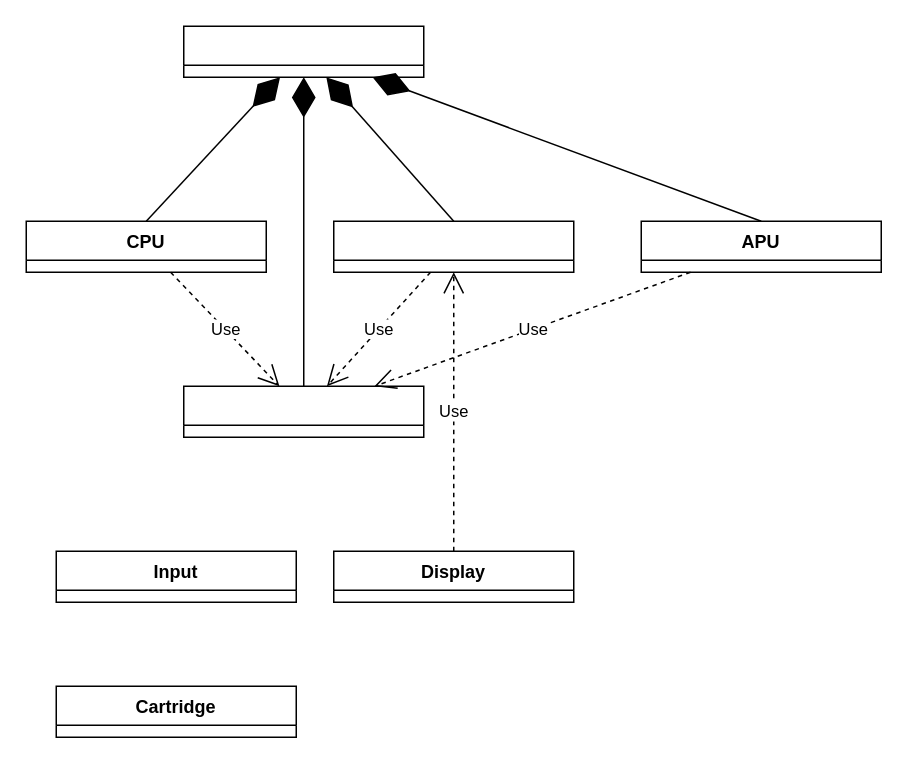
The diagram is 908 pixels wide and 764 high, and some of its shapes have lost their labels. The centre of each missing label's shape, as x and y in pixels:
Gameboy: the point at 303,51
MMU: the point at 303,411
PPU: the point at 453,246
